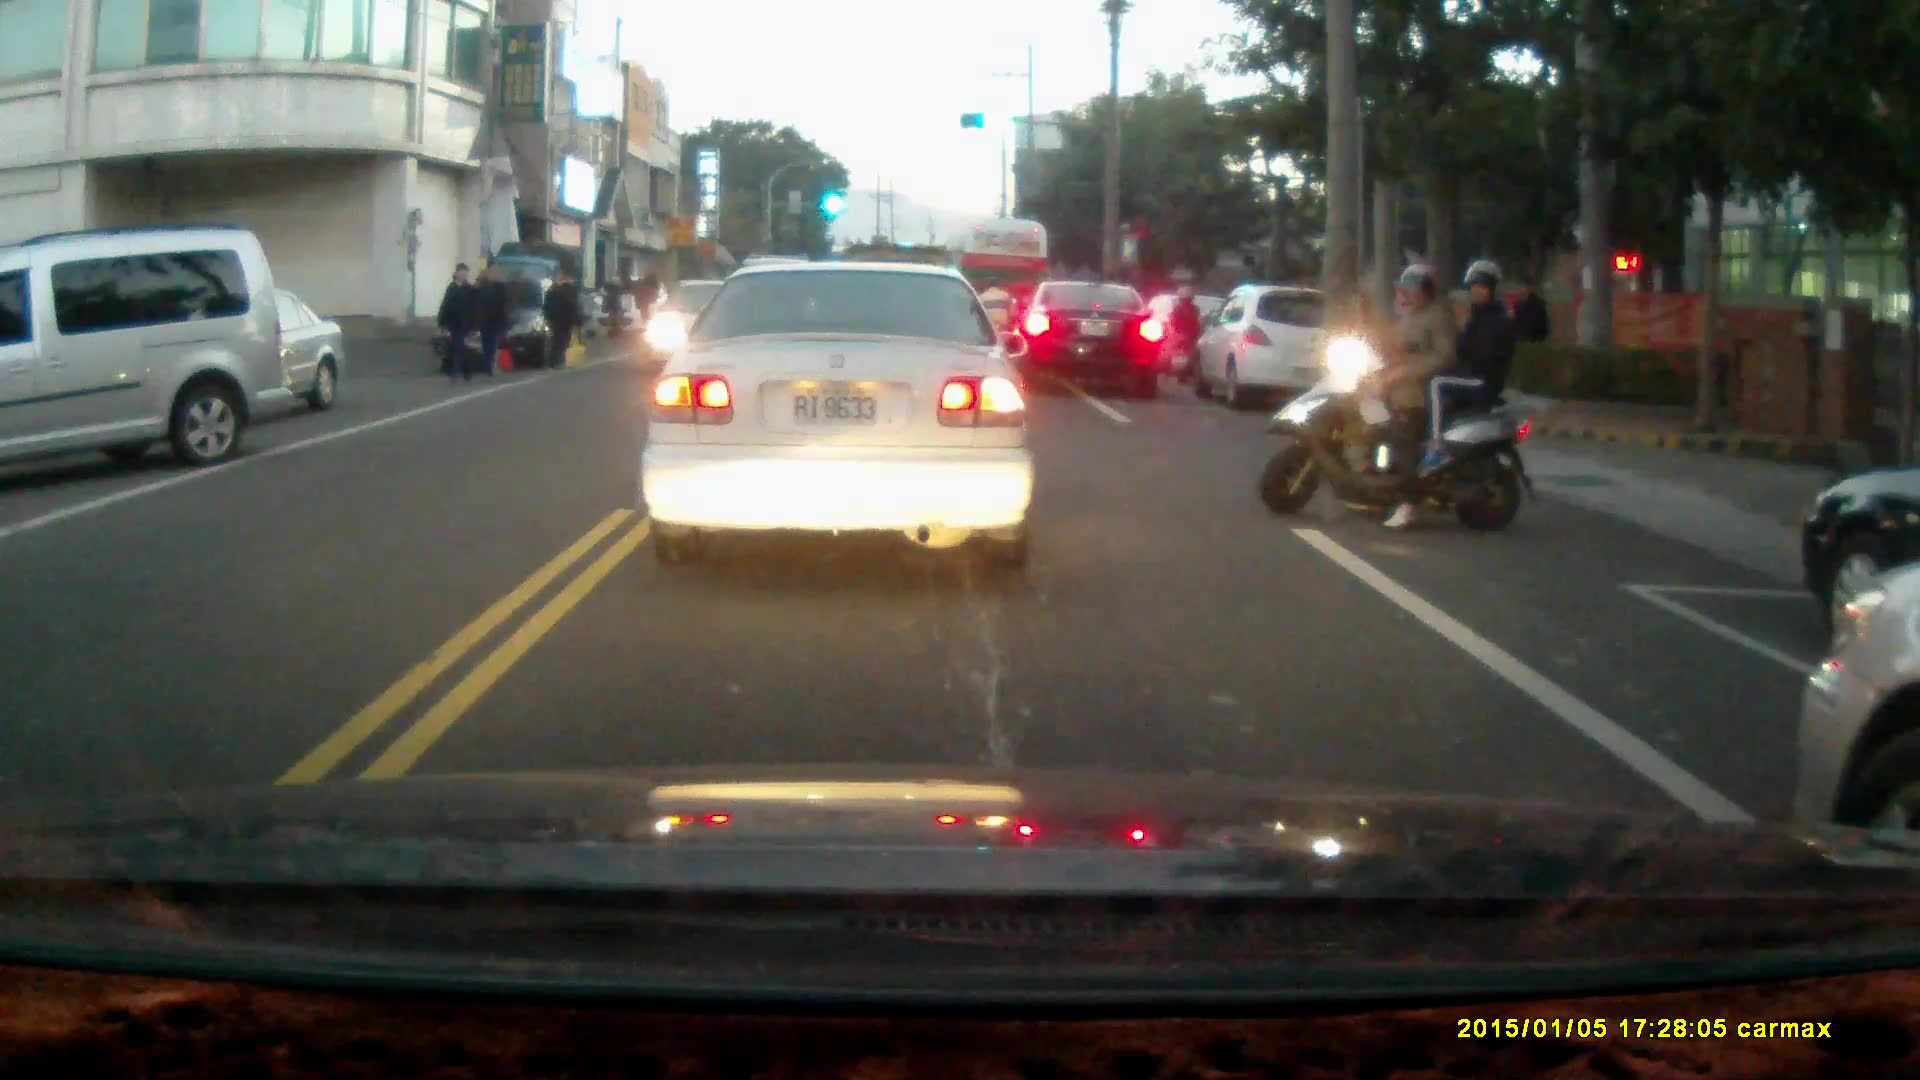pedestrian: (1504, 271, 1555, 392), (435, 261, 477, 382), (539, 264, 579, 372), (471, 259, 507, 377), (635, 260, 664, 344), (602, 259, 630, 347)
rider: (1262, 258, 1536, 535), (1167, 285, 1204, 389)
vehicle: (636, 260, 1040, 577), (1, 222, 279, 473), (85, 285, 349, 413), (1191, 282, 1373, 412), (1006, 281, 1167, 397), (942, 208, 1052, 358), (642, 277, 784, 382)
